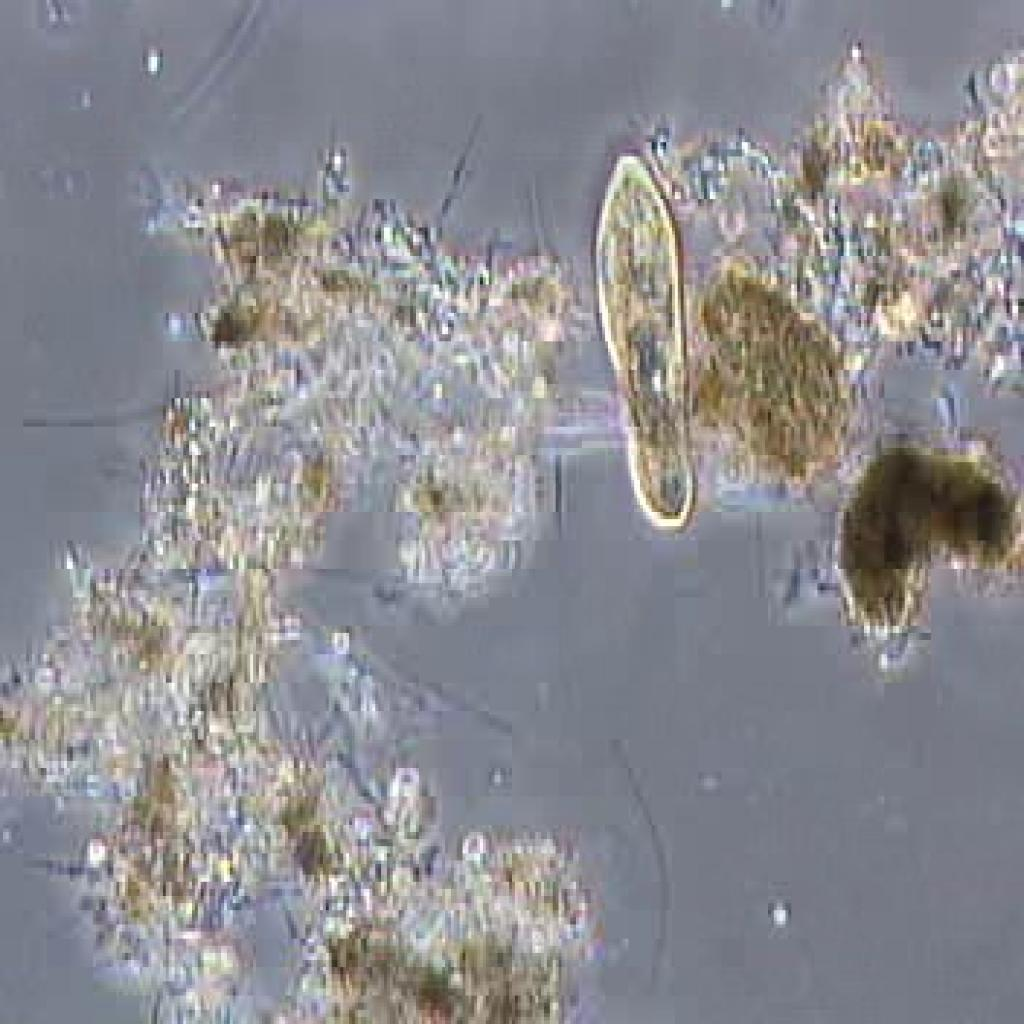Paramecium: (582, 131, 718, 537)
